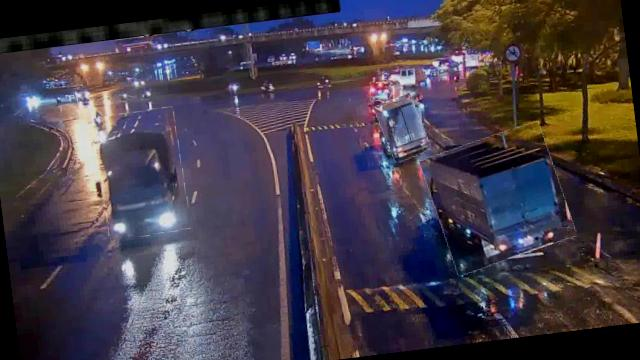Car: (369, 80, 392, 102)
Truck: (422, 123, 573, 272), (92, 106, 190, 240), (376, 93, 428, 162)
